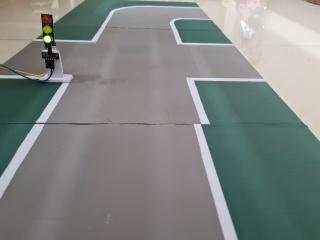green: (38, 10, 57, 55)
